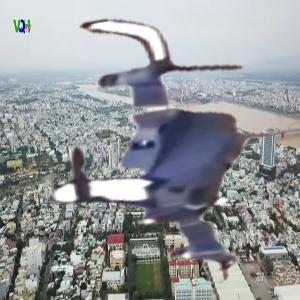drone: (10, 8, 299, 297)
